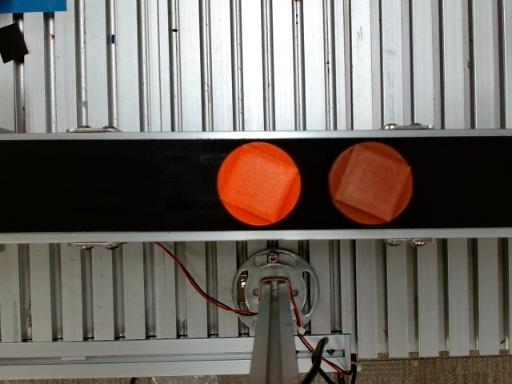Square: (220, 145, 297, 223), (335, 145, 412, 222)
